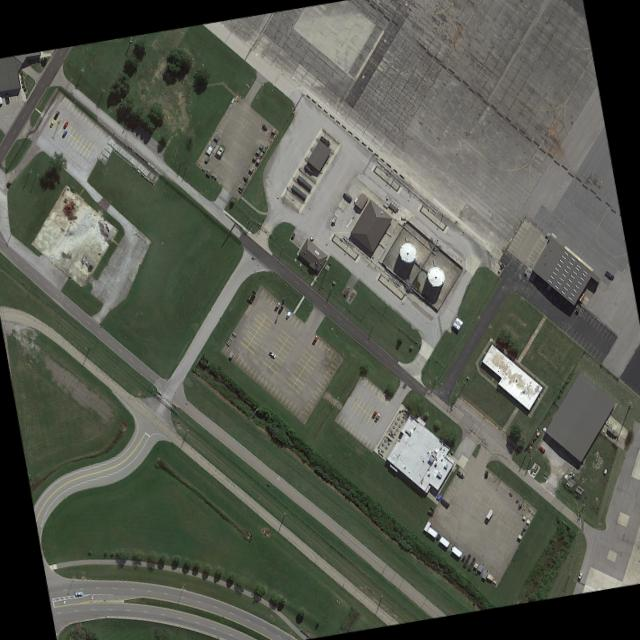small-vehicle: (440, 497, 450, 507), (606, 270, 614, 279), (375, 411, 381, 420), (278, 304, 284, 313), (538, 445, 545, 452), (269, 350, 276, 357), (345, 193, 352, 200), (54, 111, 60, 119), (63, 120, 69, 128), (372, 409, 377, 418), (5, 91, 9, 102), (49, 119, 55, 126), (275, 301, 280, 309), (286, 310, 291, 318), (313, 335, 318, 343), (62, 129, 67, 137), (291, 232, 295, 240), (0, 94, 3, 103), (75, 591, 82, 594)
storage-tank: (426, 263, 447, 287), (398, 240, 418, 263)
